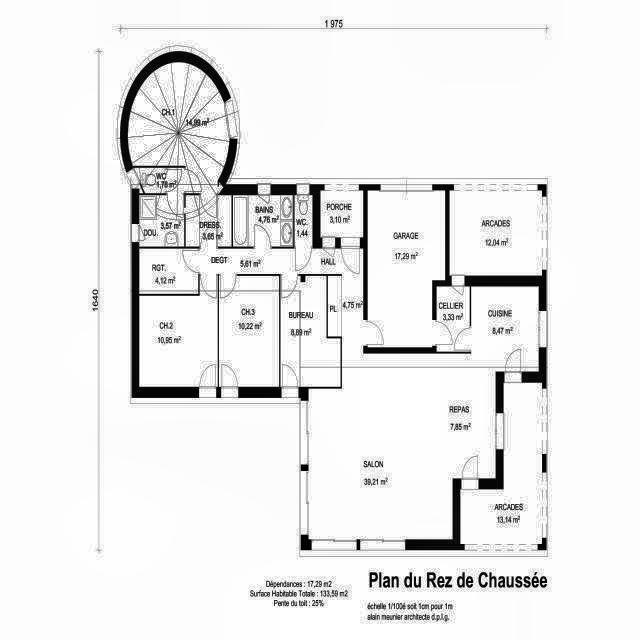room: (200, 248, 539, 540), (127, 61, 230, 195), (368, 190, 445, 347), (139, 276, 218, 387), (450, 190, 542, 275), (280, 276, 341, 387), (219, 276, 279, 387), (233, 195, 293, 247), (139, 249, 198, 294), (185, 195, 232, 247), (139, 195, 184, 247), (437, 287, 470, 352), (320, 190, 363, 238), (294, 195, 313, 247), (133, 168, 165, 193), (166, 168, 184, 193)
